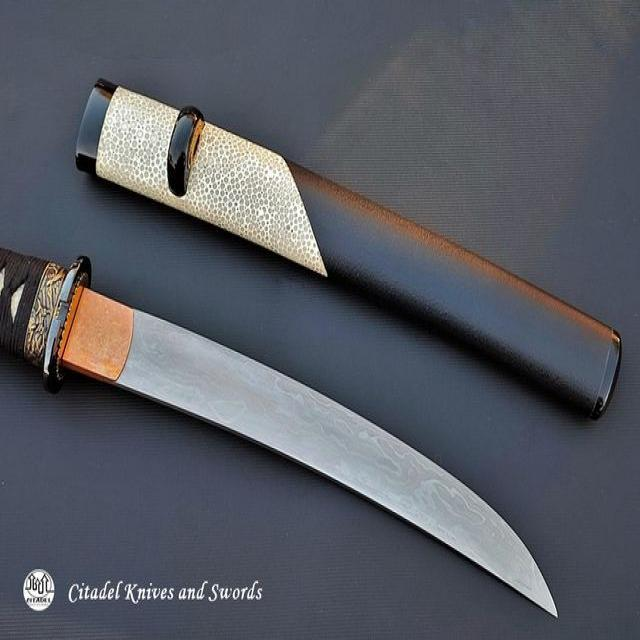short sword: (27, 222, 611, 622)
